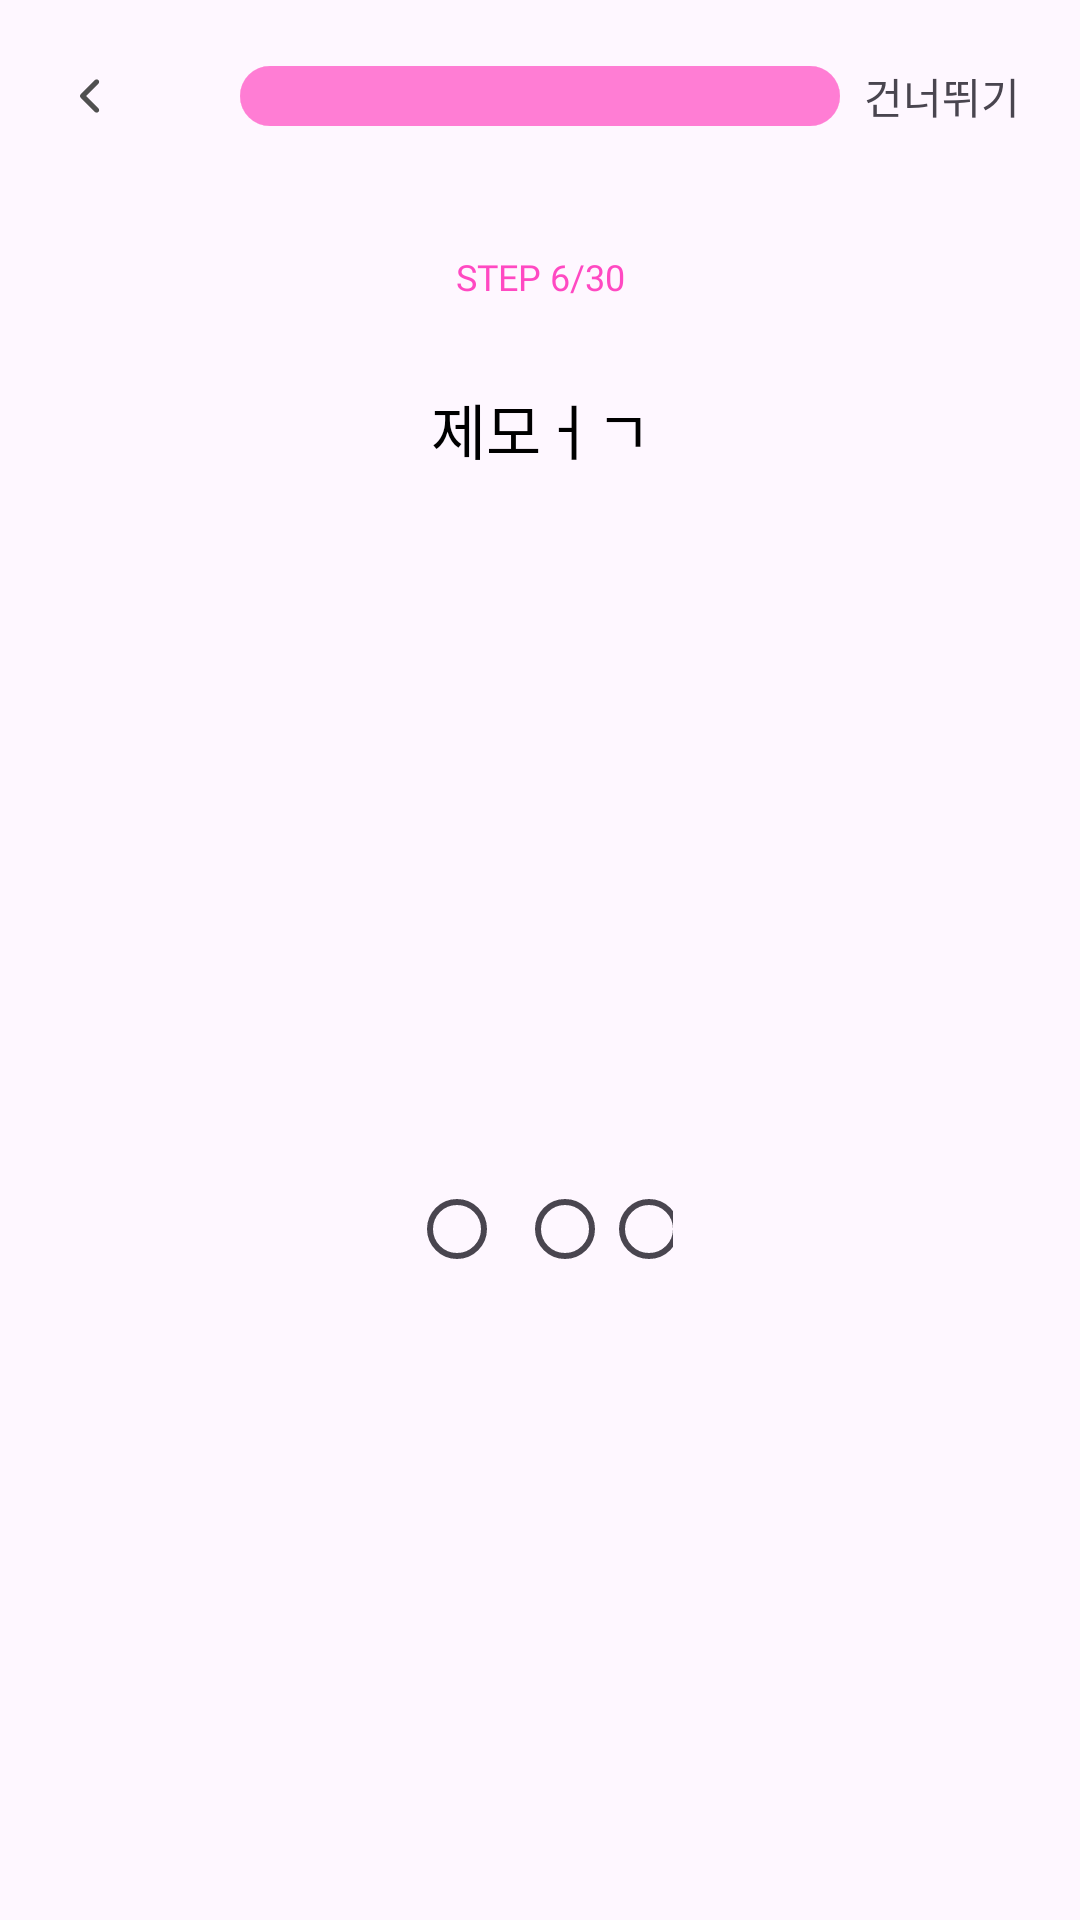

Point at icon controls on the screen. Image size 1080x1920, points as [x,y].
left arrow: [89,96]
